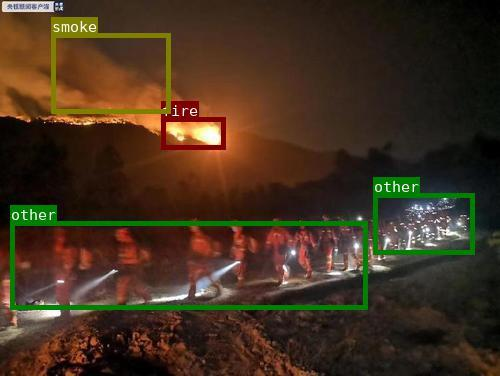fire: (161, 116, 225, 148)
other: (10, 220, 367, 308), (373, 192, 474, 253)
smoke: (51, 32, 169, 112)
